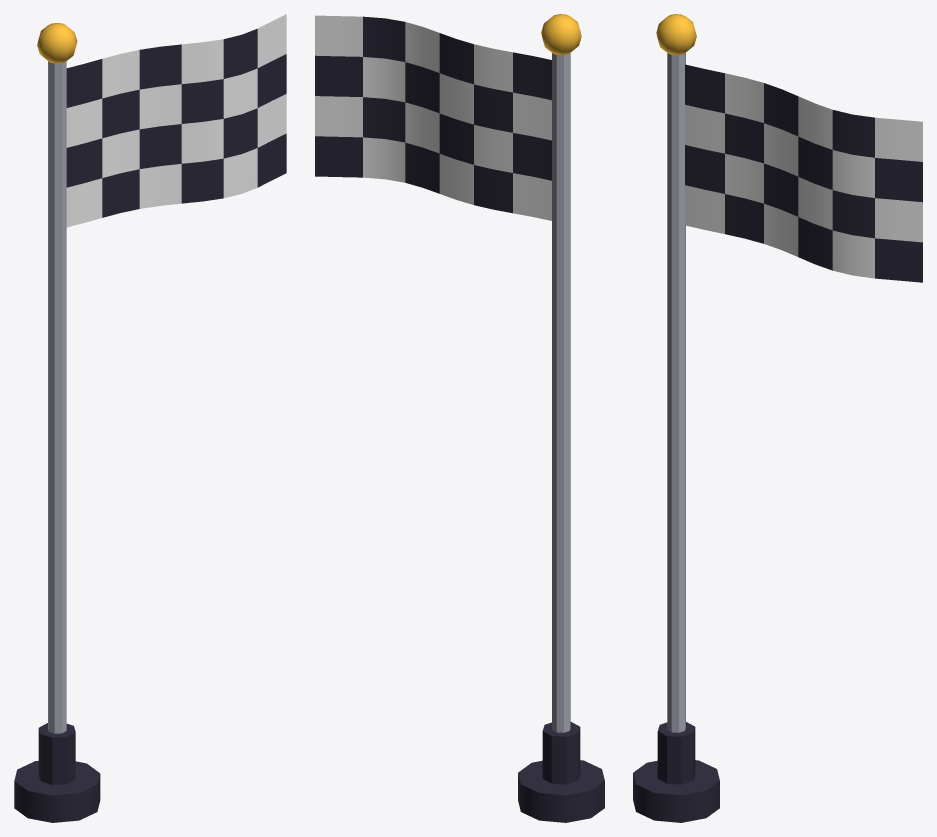
File: finish_banner_post.glb
3 renders of one model, left to right at view 1: azimuth 30°, elevation 25°; view 2: azimuth 150°, elevation 25°; view 3: azimuth 330°, elevation 25°, orthographic.
Visible parts, largest first — view 1: finish_banner_post; view 2: finish_banner_post; view 3: finish_banner_post.
Part boxes in pixels (box(x1,y1,x2,y2)): finish_banner_post: box(14, 14, 286, 822); finish_banner_post: box(315, 14, 604, 822); finish_banner_post: box(633, 14, 922, 822).
Bounding box in the file's own units: 2.29 × 6.27 × 0.64.
